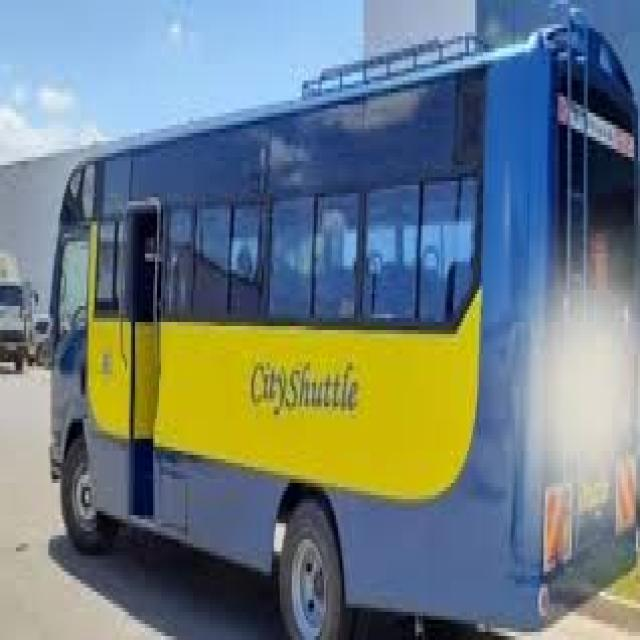bus: (23, 18, 640, 640)
